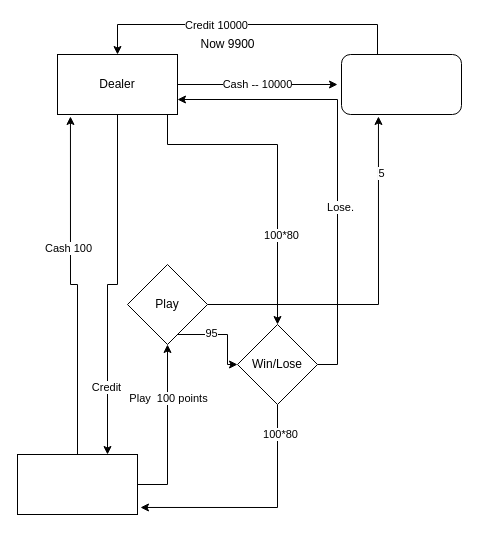
The diagram is 479 pixels wide and 533 high, and some of its shapes have lost their labels. Here are the shapes that lost their labels. From the top down, the centre of each, then its label:
the point at 401,84: App debit 10,000 credit 5
the point at 77,484: Customer
